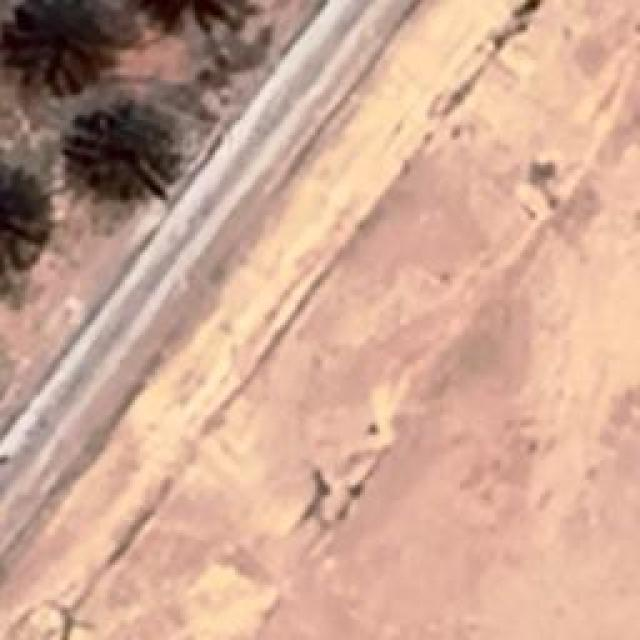PalmTree: (5, 0, 114, 94), (75, 106, 175, 204), (0, 163, 53, 277), (128, 0, 254, 40)
